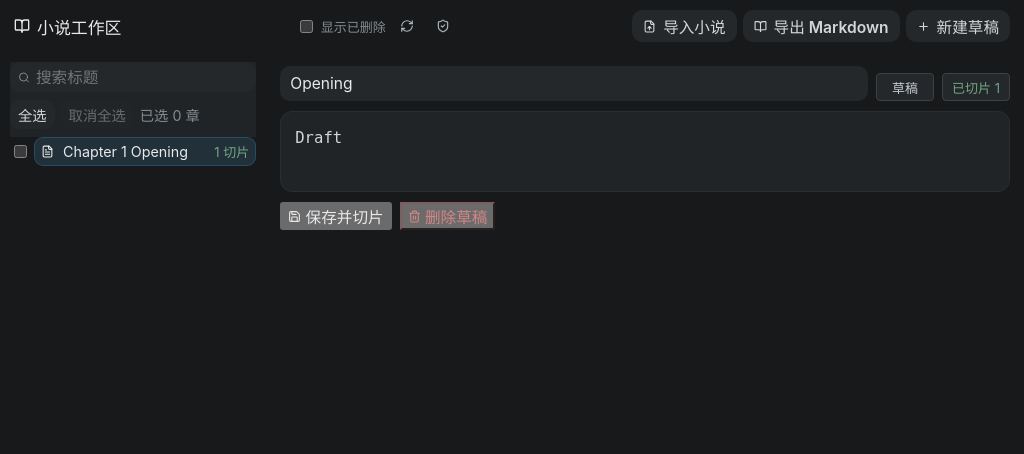
NovelWorkspace › toggles export options from the same button without clearing settings or starting export
Expected: the text box named "章节内容" is shown, [280,111,1010,192]
Click the button "导出 Markdown". click: (821, 26)
box: [742,10,900,42]
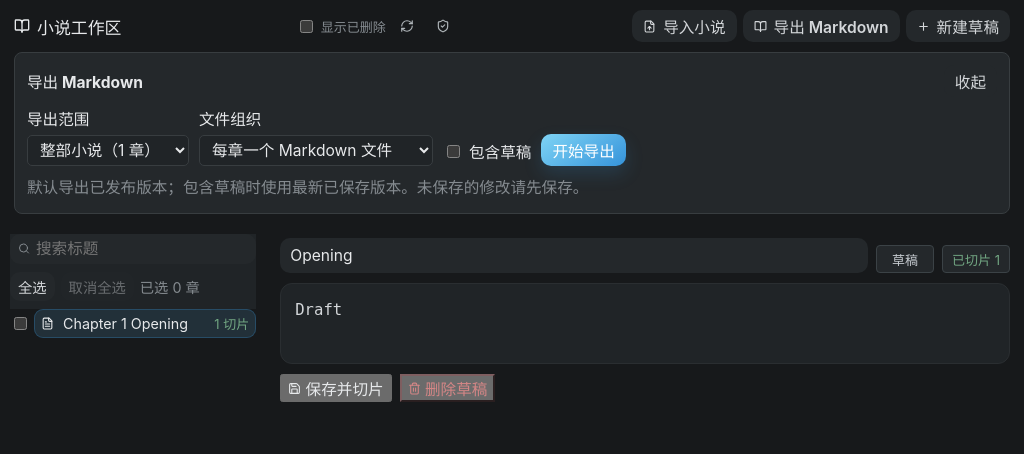
Select "所选章节（0 章）" in the dropdown labelled "导出范围". click: (108, 150)
box: [27,135,189,166]
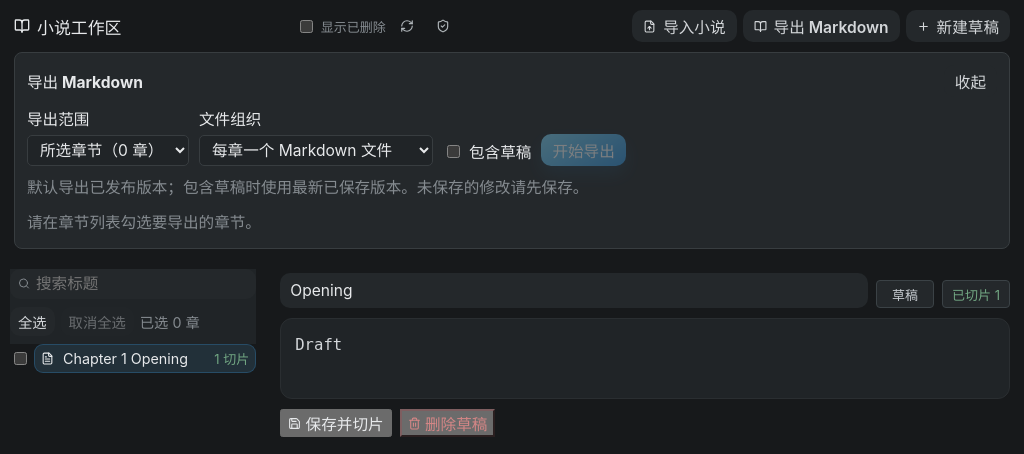
Select "合并为一个 Markdown 文件" in the dropdown labelled "文件组织". click: (316, 150)
box: [199,135,433,166]
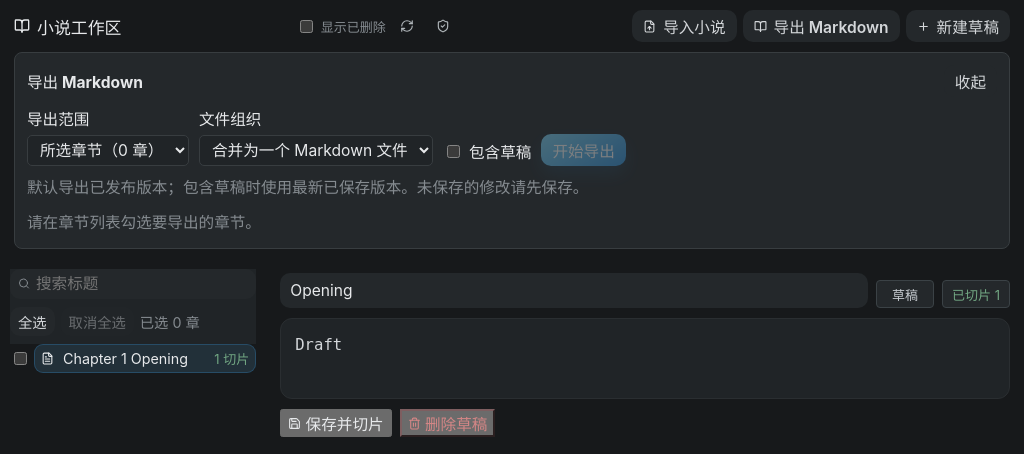
Click the checkbox labelled "包含草稿". click: (454, 151)
box: [447,144,460,158]
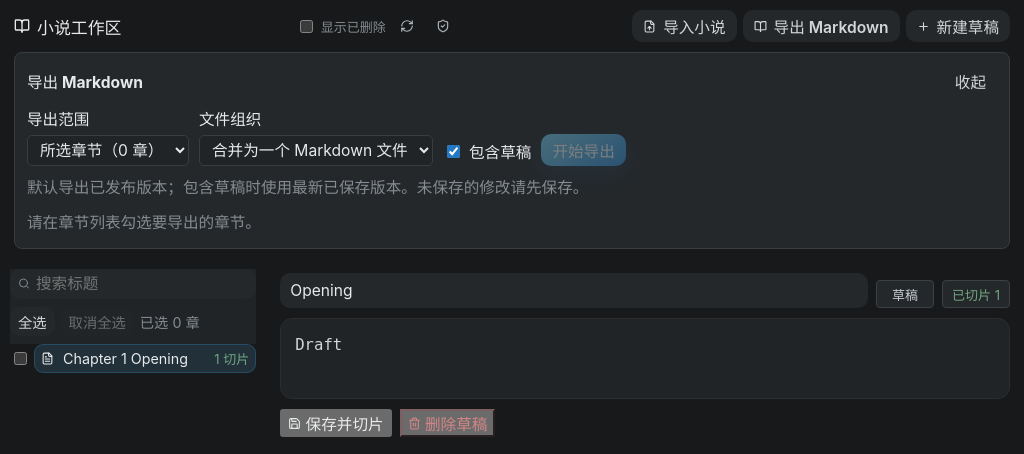
Click the button "导出 Markdown". click: (821, 26)
box: [742,10,900,42]
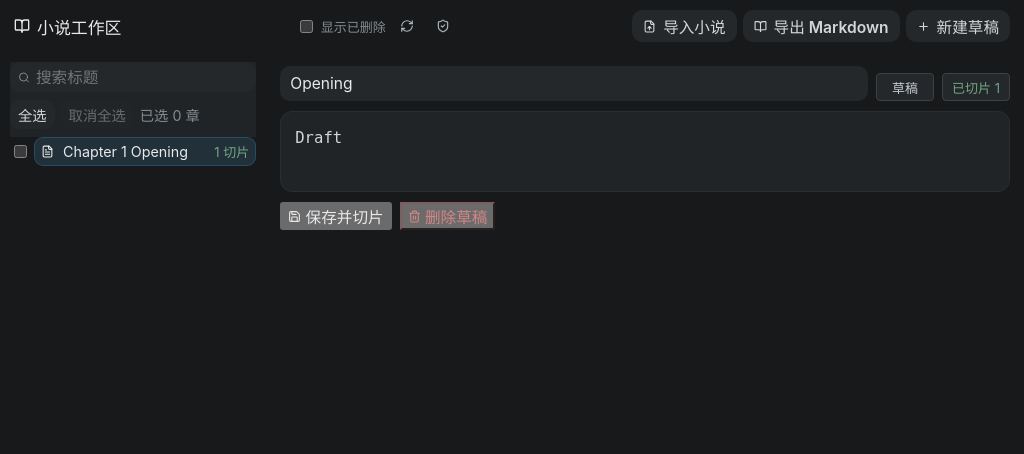
Now the element "小说导出选项" is gone
Click the button "导出 Markdown". click: (821, 26)
box: [742,10,900,42]
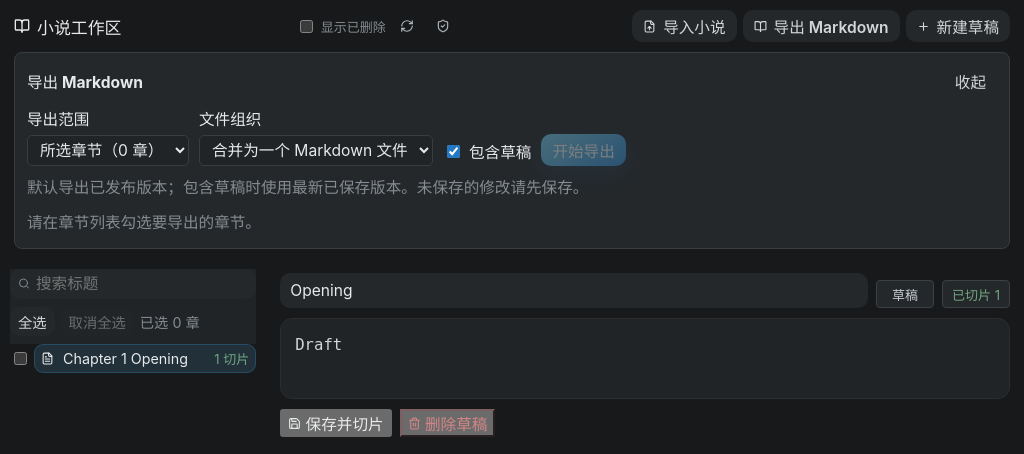
Now the dropdown labelled "导出范围" shows "所选章节（0 章）", box [27,135,189,166]
Now the dropdown labelled "文件组织" shows "合并为一个 Markdown 文件", box [199,135,433,166]
Now the checkbox labelled "包含草稿" is checked, box [447,144,460,158]
